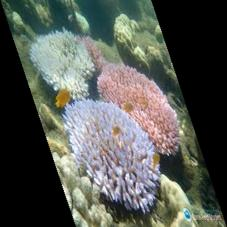bleached_corals: (38, 83, 187, 226), (24, 21, 104, 111)
